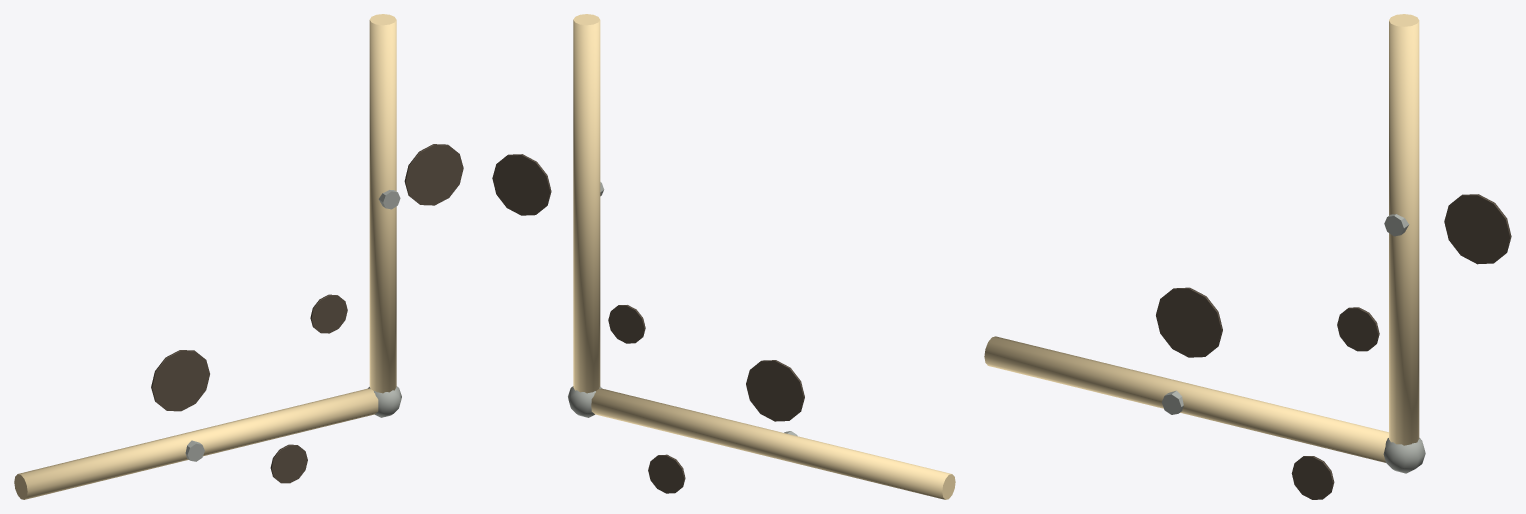
The model's file is drip_m12.obj.
3 renders of one model, left to right at view 1: azimuth 30°, elevation 25°; view 2: azimuth 150°, elevation 25°; view 3: azimuth 330°, elevation 25°, orthographic. The views are drawn at different scales.
Parts seen in each view (by area): view 1: hose4, hose8, wet4_0, wet8_0, wet8_1, wet4_1, tee; view 2: hose4, hose8, wet4_0, wet8_0, wet8_1, wet4_1, tee; view 3: hose4, hose8, wet4_0, wet8_0, wet4_1, wet8_1, tee.
Part boxes in pixels (left/top/right/bottom): hose4: left=369, top=14, right=396, bottom=393; hose8: left=14, top=388, right=378, bottom=499; wet4_0: left=404, top=144, right=463, bottom=205; wet8_0: left=151, top=350, right=209, bottom=411; wet8_1: left=270, top=444, right=307, bottom=483; wet4_1: left=310, top=294, right=347, bottom=333; tee: left=368, top=386, right=401, bottom=417; hose4: left=573, top=14, right=600, bottom=393; hose8: left=591, top=388, right=955, bottom=499; wet4_0: left=492, top=154, right=551, bottom=215; wet8_0: left=746, top=360, right=804, bottom=421; wet8_1: left=648, top=454, right=685, bottom=493; wet4_1: left=608, top=305, right=645, bottom=343; tee: left=568, top=386, right=601, bottom=417; hose4: left=1389, top=14, right=1419, bottom=445; hose8: left=984, top=336, right=1388, bottom=462; wet4_0: left=1444, top=194, right=1511, bottom=264; wet8_0: left=1156, top=287, right=1222, bottom=357; wet4_1: left=1337, top=307, right=1379, bottom=351; wet8_1: left=1291, top=456, right=1334, bottom=499; tee: left=1383, top=438, right=1425, bottom=473.
Bounding box in the file's own units: 0.62 × 0.59 × 0.0464.
Materials: 3 (3 with a texture image).
